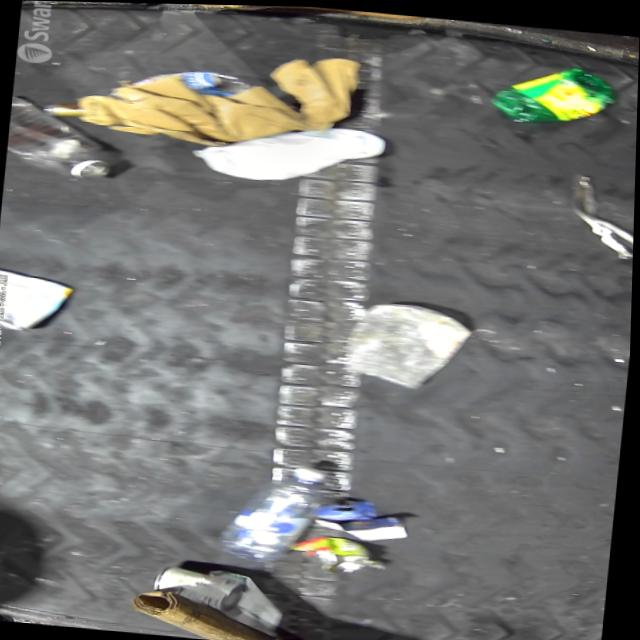can: (155, 562, 249, 611), (294, 530, 395, 575)
milk_jug: (190, 112, 389, 188)
non_white_jug: (0, 265, 77, 333)
plastic_bottle: (219, 457, 330, 564), (5, 95, 118, 180)
